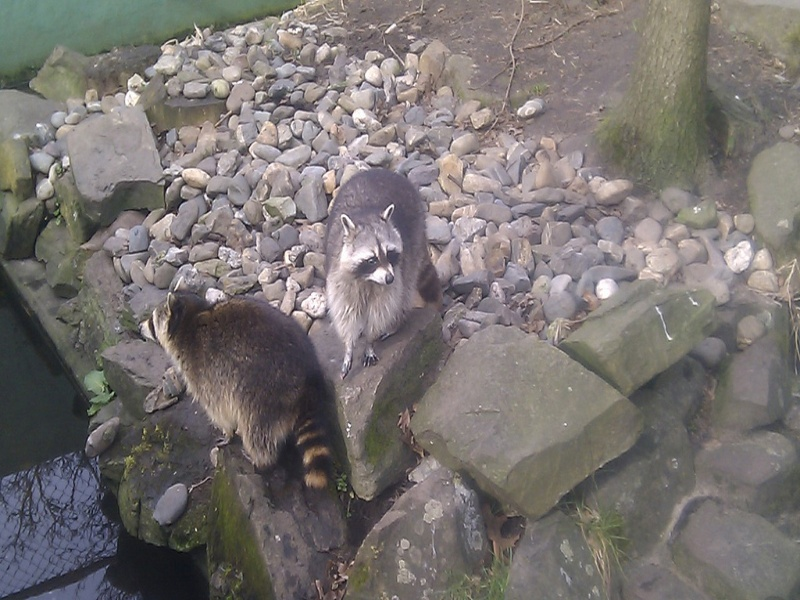raccoon: (132, 284, 337, 487), (325, 162, 448, 383)
